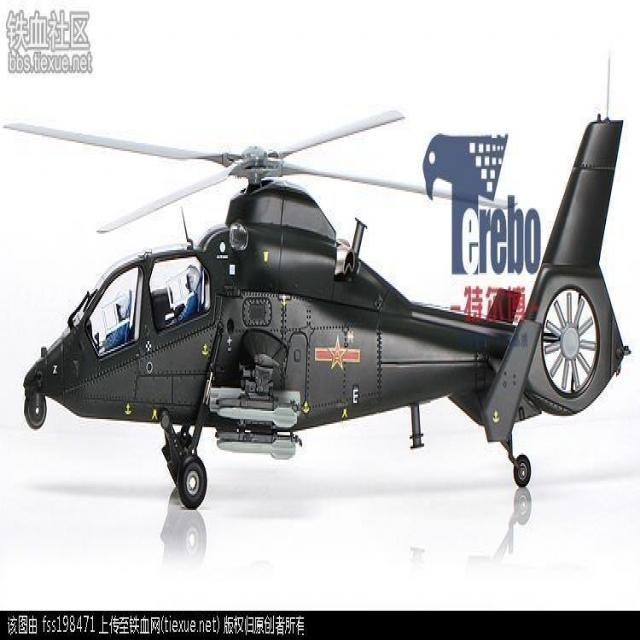MIL_HELO: (14, 91, 640, 514)
